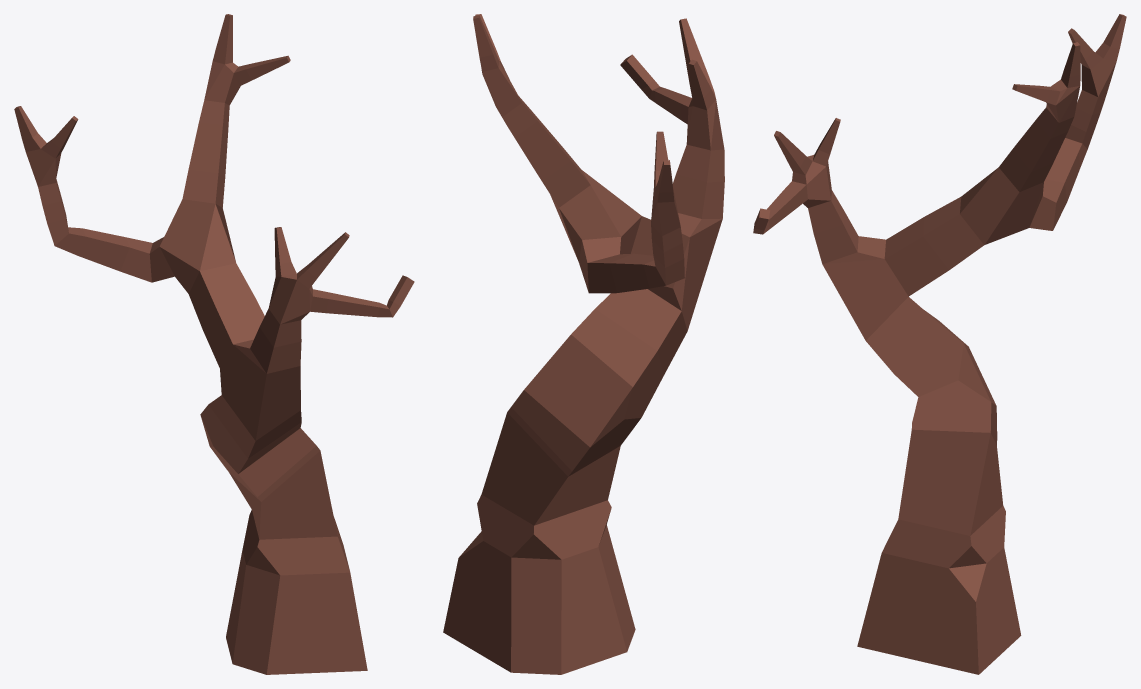
The model's file is Arbol2.fbx.
The picture shows the model from 3 angles, left to right: view 1: azimuth 30°, elevation 25°; view 2: azimuth 150°, elevation 25°; view 3: azimuth 270°, elevation 25°; orthographic projection. The views are drawn at different scales.
Parts seen in each view (by area): view 1: Plane; view 2: Plane; view 3: Plane.
Boxes of the visible parts, x1,y1,x2,y2 form: Plane: [14, 14, 414, 674]; Plane: [443, 14, 724, 674]; Plane: [753, 14, 1126, 674].
Size of the model in its own units: 1050 by 2196 by 1253.
